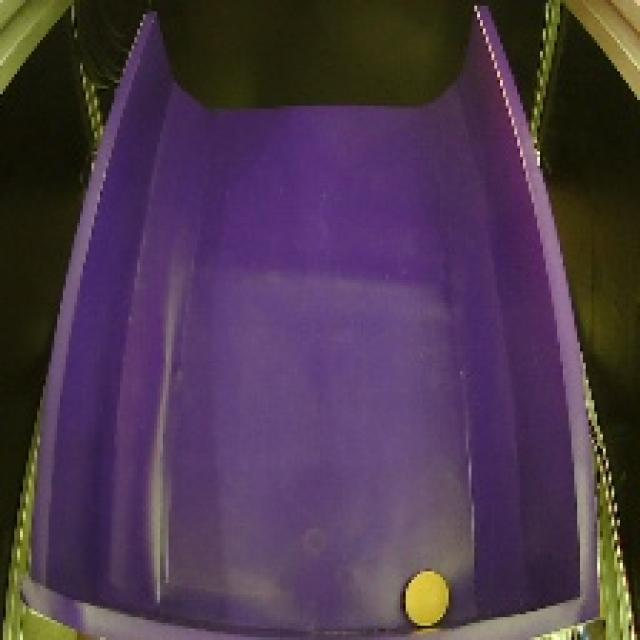small: (396, 563, 458, 637)
